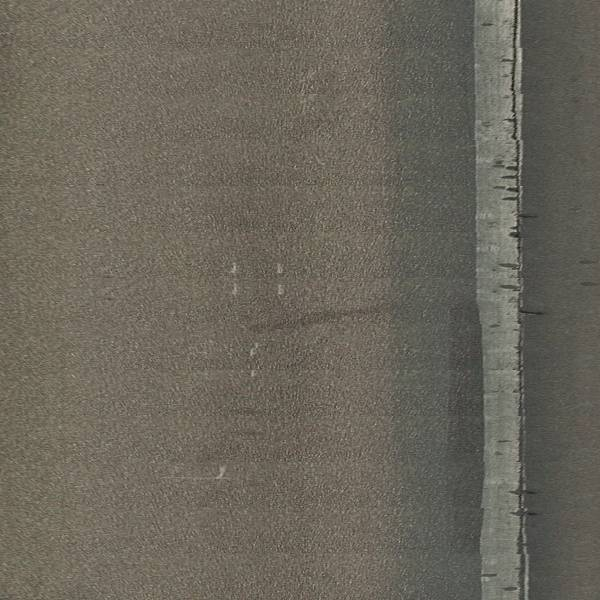road_damage: (497, 123, 547, 357)
